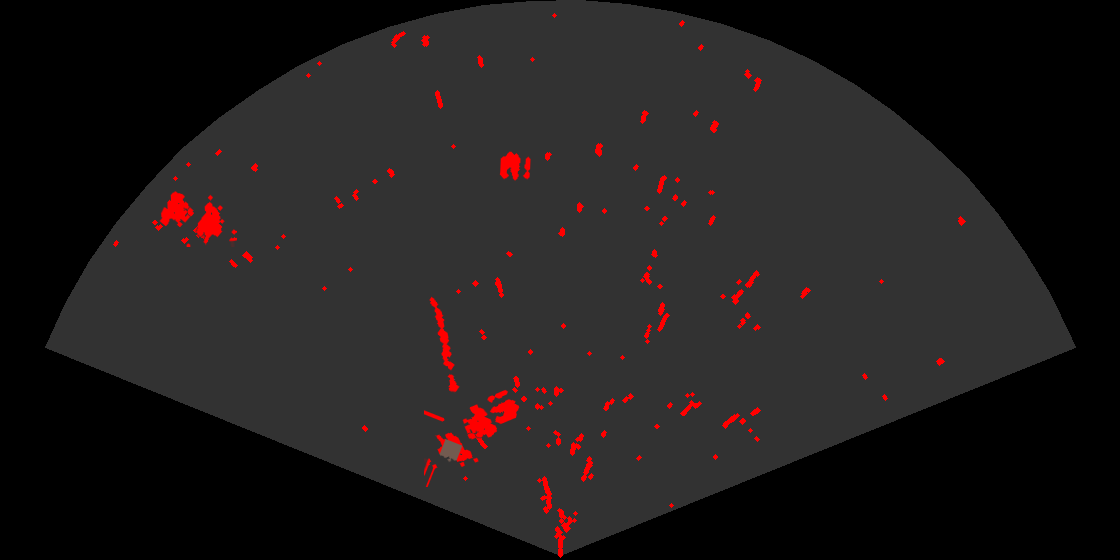ball: (486, 388, 521, 426), (498, 150, 532, 182)
cage: (424, 403, 499, 487), (158, 190, 237, 247)
chain: (428, 295, 461, 394)
